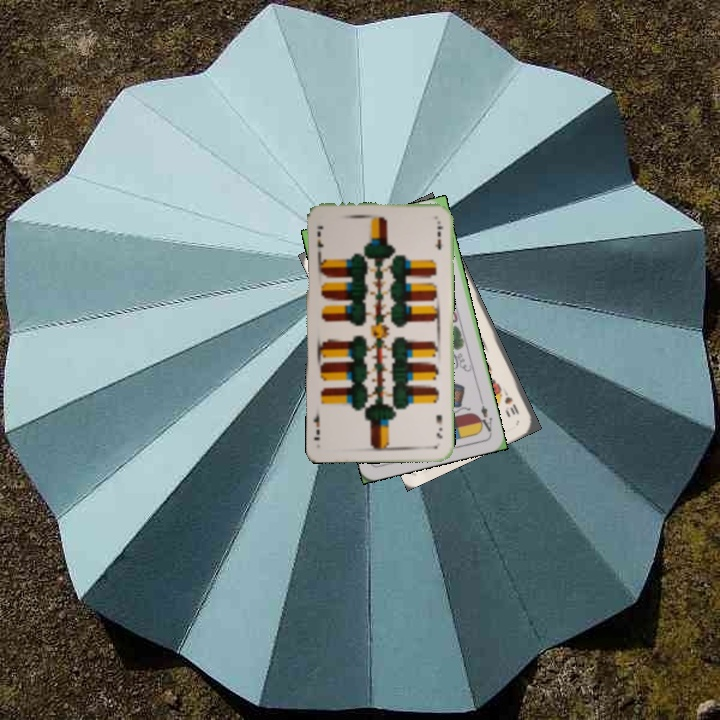E7: (432, 411, 445, 441), (313, 222, 326, 250)
EA: (474, 396, 495, 436)
S10: (497, 383, 522, 418)
